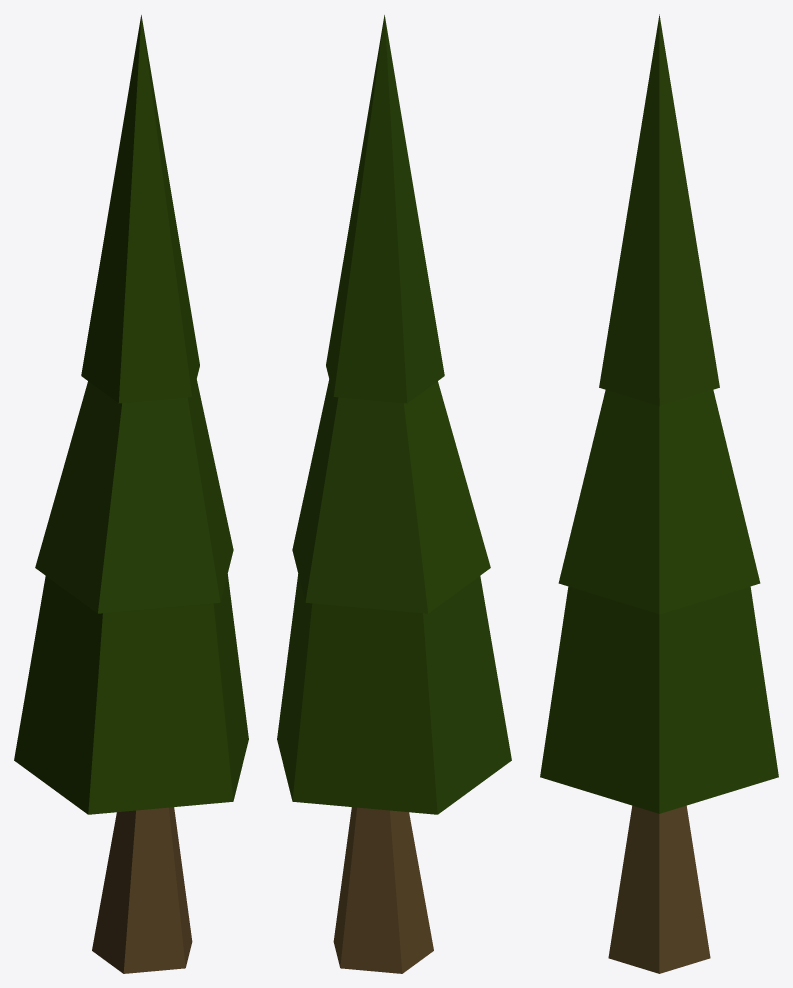
Rendered from SlimTree.fbx.
The picture shows the model from 3 angles, left to right: view 1: azimuth 30°, elevation 25°; view 2: azimuth 150°, elevation 25°; view 3: azimuth 270°, elevation 25°; orthographic projection.
Visible parts, largest first — view 1: pCone3; view 2: pCone3; view 3: pCone3.
Part boxes in pixels (x1,y1,x2,y2): pCone3: (14,15,248,973); pCone3: (277,15,511,973); pCone3: (540,14,778,973).
Size of the model in its own units: 1.69 by 7.67 by 1.78.
